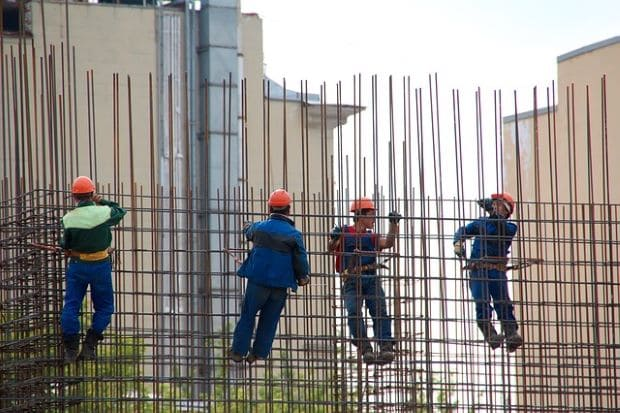Casco de seguridad: (491, 192, 514, 213), (71, 176, 94, 194), (268, 189, 291, 206), (350, 197, 375, 211)
